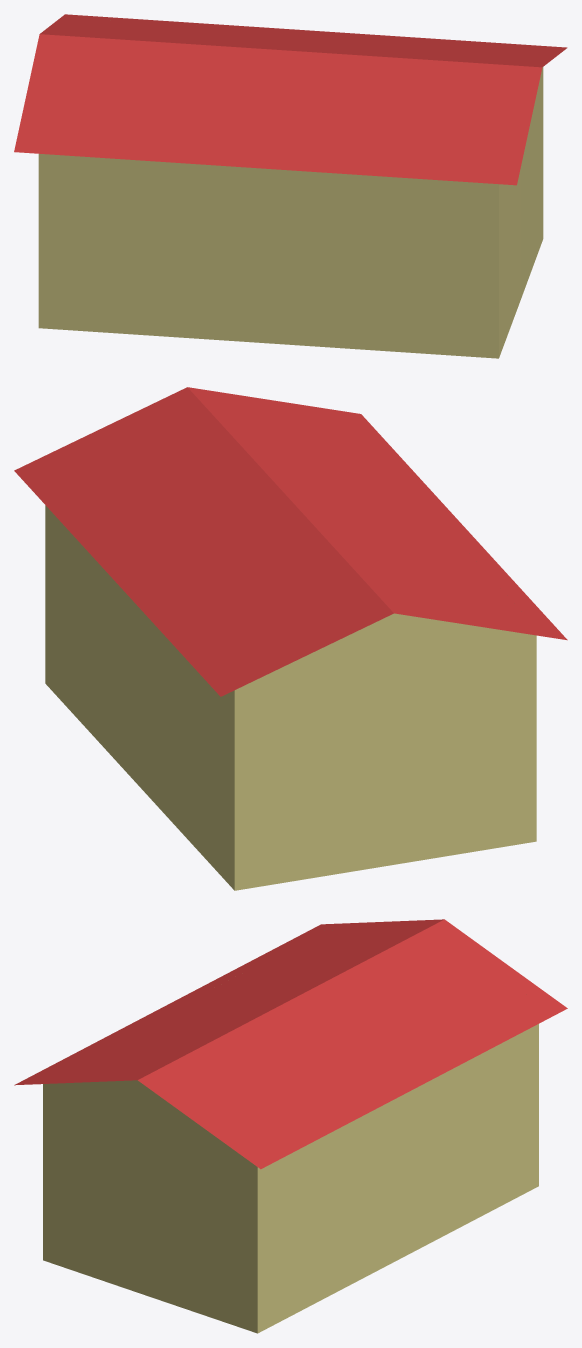
The picture shows the model from 3 angles, top to bottom: view 1: azimuth 30°, elevation 25°; view 2: azimuth 150°, elevation 25°; view 3: azimuth 270°, elevation 25°; orthographic projection. The views are drawn at different scales.
Bounding box in the file's own units: 20.98 × 20.05 × 8.93.
